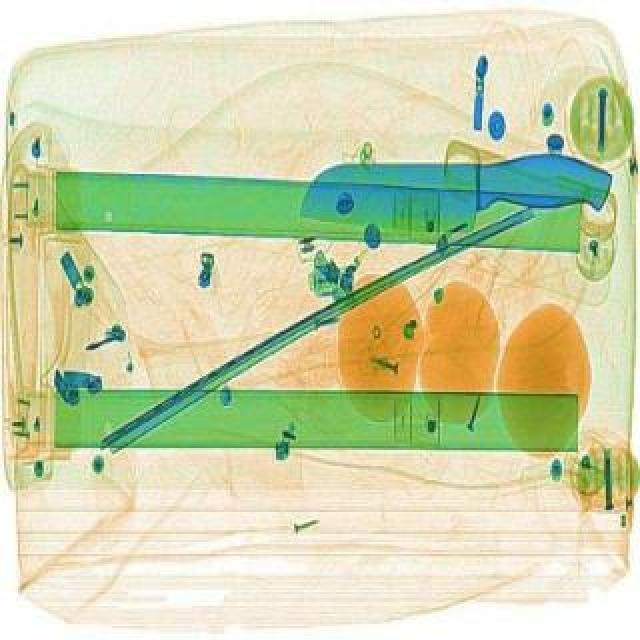knife: (298, 148, 614, 238)
